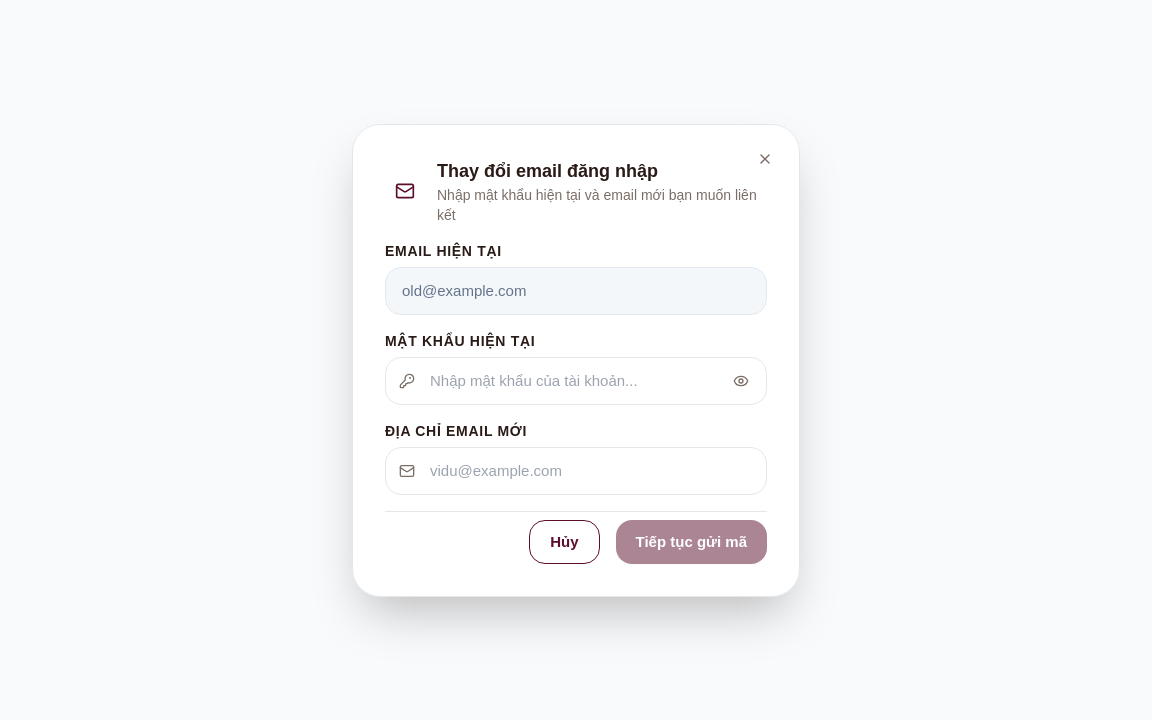
Test: ChangeEmailDialog › Step 2: Verify OTP and Complete › allows navigating back to Step 1
Type "ValidPassword123!" into the password field with placeholder "Nhập mật khẩu của tài khoản..." at point(576, 380), box [385,356,767,404]
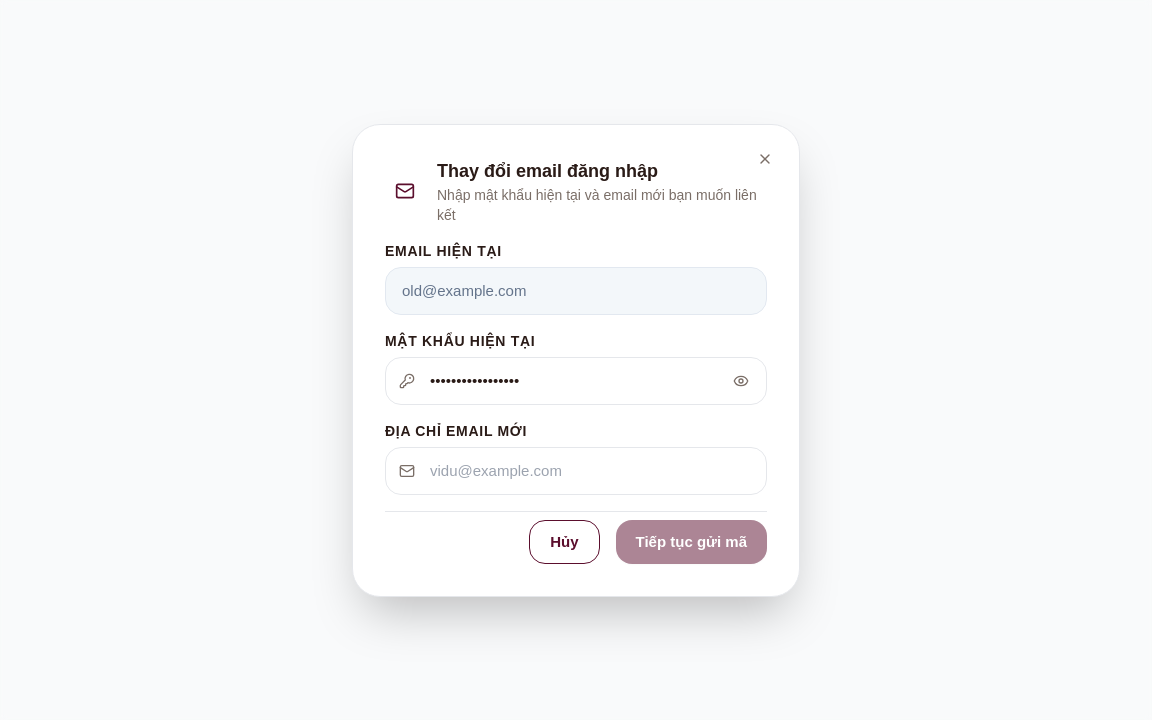
Type "new@example.com" into the field with placeholder "vidu@example.com" at point(576, 470), box [385,446,767,494]
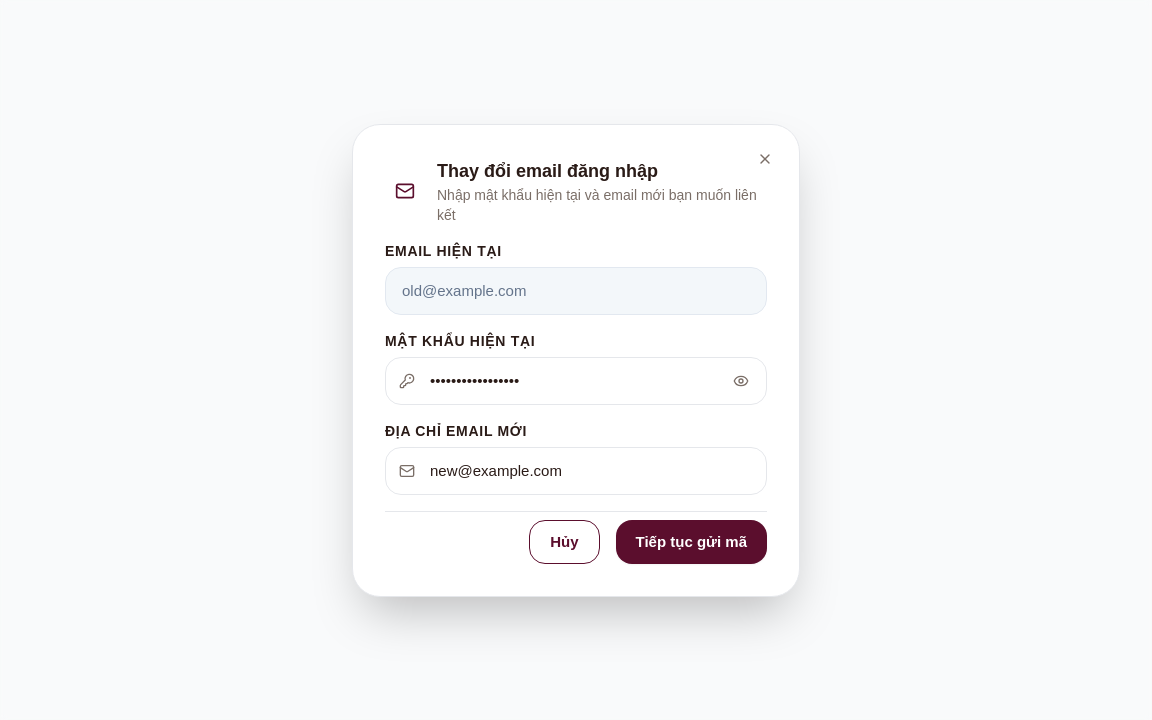
Click the button "Tiếp tục gửi mã" at point(691, 542), box [616,520,767,564]
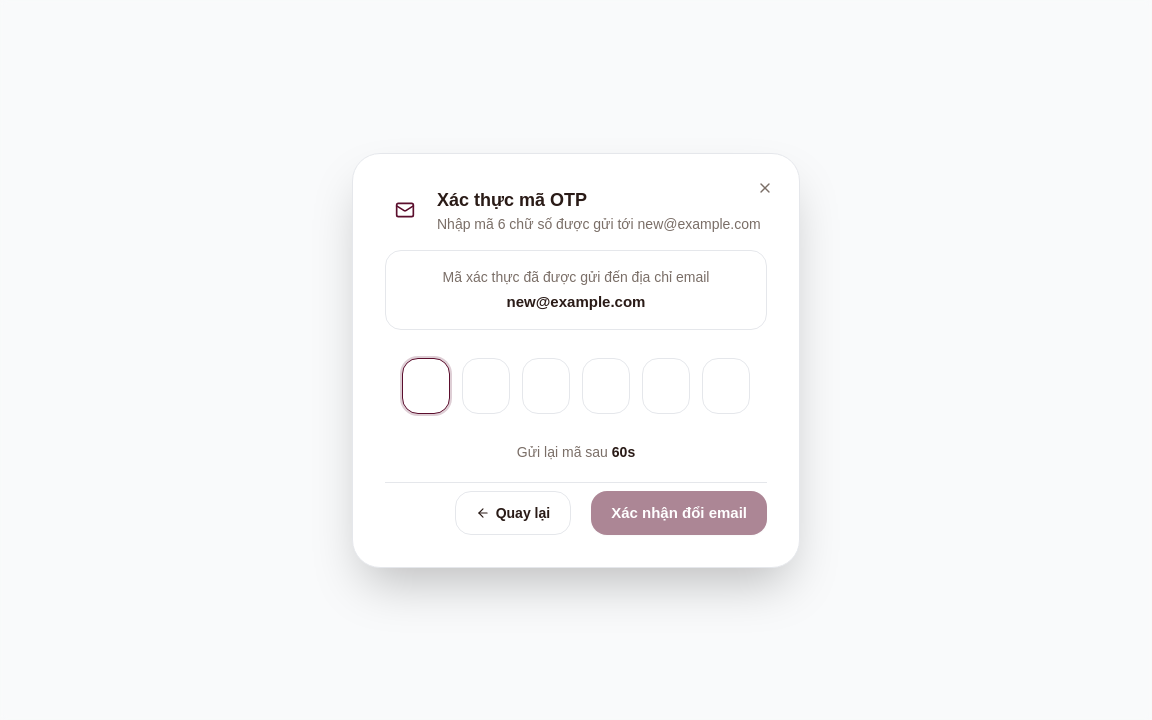
Expected: the heading "Xác thực mã OTP" is shown, [437,190,587,210]
Click the button "Quay lại" at point(513, 512), box [455,490,571,534]
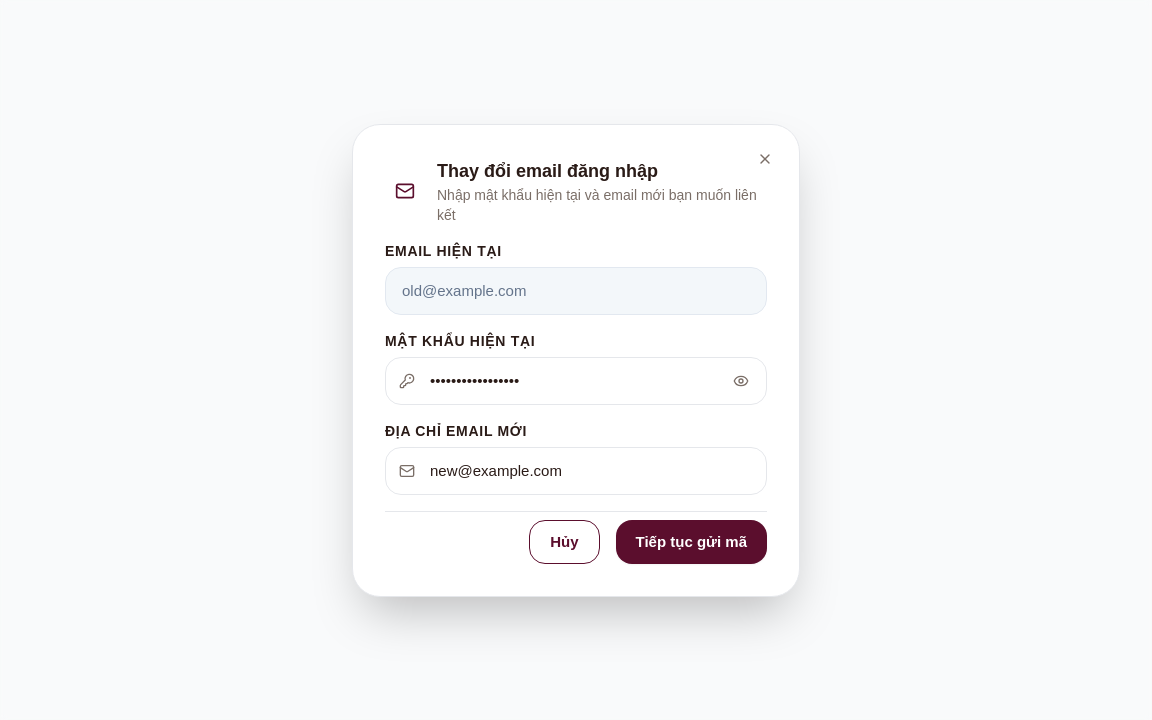
Expected: the heading "Thay đổi email đăng nhập" is shown, [437,160,658,180]
Expected: the field with placeholder "vidu@example.com" is shown, [385,446,767,494]
